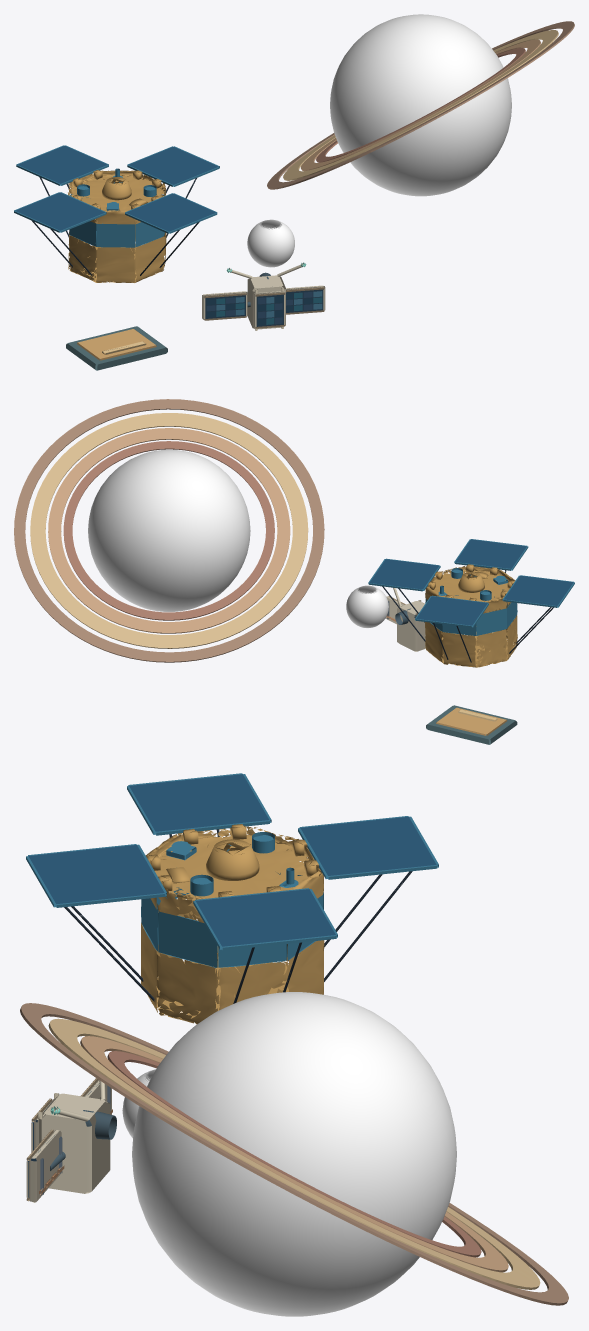
Rendered from saturno-travesia.obj.
3 renders of one model, top to bottom at view 1: azimuth 30°, elevation 25°; view 2: azimuth 150°, elevation 25°; view 3: azimuth 270°, elevation 25°, orthographic. The views are drawn at different scales.
Parts seen in each view (by area): view 1: saturno-travesia; view 2: saturno-travesia; view 3: saturno-travesia.
Boxes of the visible parts, x1,y1,x2,y2 form: saturno-travesia: (14,14,574,370); saturno-travesia: (14,399,574,744); saturno-travesia: (20,773,568,1316).
Bounding box in the file's own units: 1.75 × 0.7123 × 0.8243.
